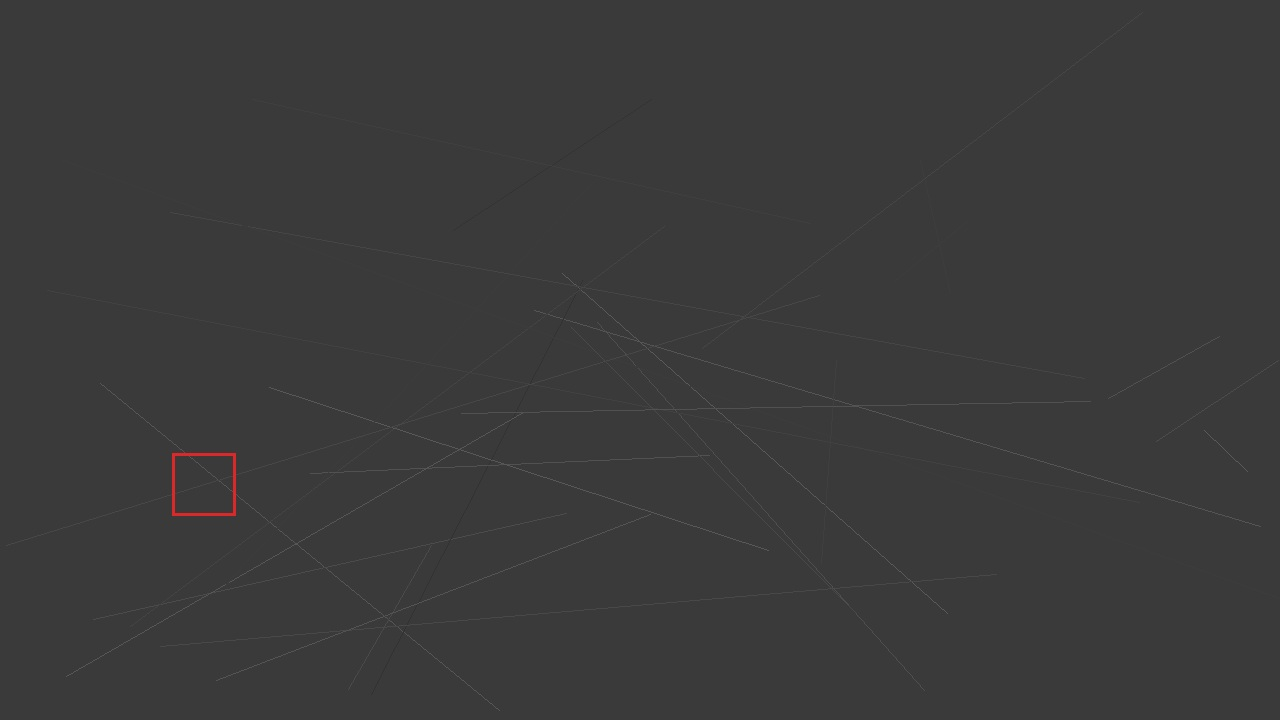D10: (172, 453, 235, 515)
